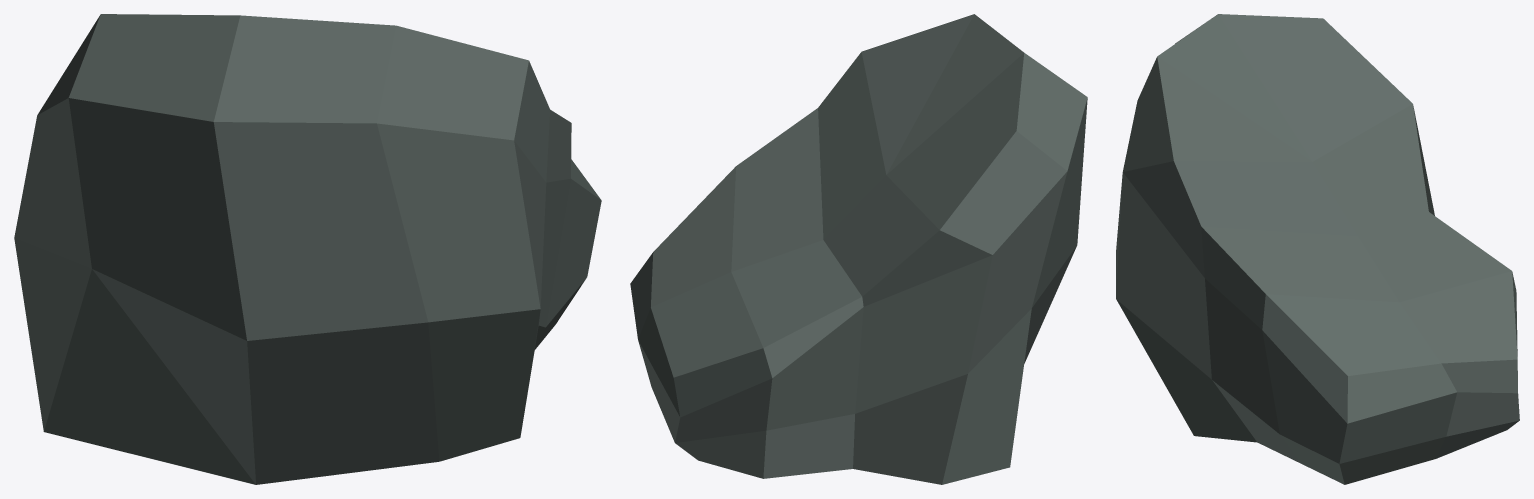
The model's file is SM_Rock_D.glb.
3 views of the same model, side by side, from view 1: azimuth 30°, elevation 25°; view 2: azimuth 150°, elevation 25°; view 3: azimuth 270°, elevation 25° (orthographic). The views are drawn at different scales.
Parts seen in each view (by area): view 1: SM_Rock_D; view 2: SM_Rock_D; view 3: SM_Rock_D.
Boxes of the visible parts, x1,y1,x2,y2 form: SM_Rock_D: (14,14,601,484); SM_Rock_D: (630,14,1087,484); SM_Rock_D: (1116,14,1519,484).
Bounding box in the file's own units: 2 × 1.59 × 1.75.
1 material, 1 textured.
